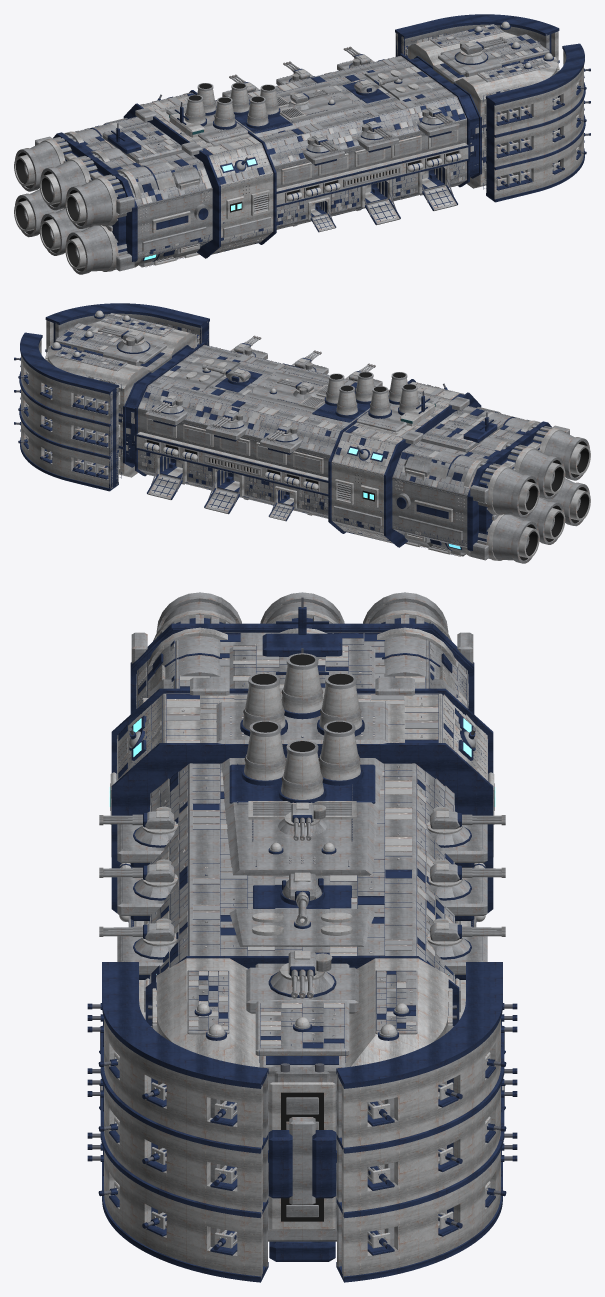
Rendered from 機戰風_聯盟.glb.
The picture shows the model from 3 angles, top to bottom: view 1: azimuth 30°, elevation 25°; view 2: azimuth 150°, elevation 25°; view 3: azimuth 270°, elevation 25°; orthographic projection. The views are drawn at different scales.
Visible parts, largest first — view 1: hull_mid_mid, hull_mid, hull_light, shields_plate_light, shields_plate_dark, hull_dark, superstructure_mid, engines.thruster.004, bow_mid, bow_block_light, engines.thruster.005, engines.thruster.002 (+29 smaller); view 2: hull_mid_mid, hull_mid, hull_light, shields_plate_light, shields_plate_dark, hull_dark, superstructure_mid, engines.thruster.002, bow_mid, bow_block_light, engines.thruster.003, engines.thruster.004 (+29 smaller); view 3: shields_plate_light, hull_mid_mid, shields_plate_dark, superstructure_mid, bow_mid, hull_dark, bow_block_light, hull_light, weapons_mid, engines.thruster.004, engines.thruster.002, bow_dark (+24 smaller).
Boxes of the visible parts, x1=… form: hull_mid_mid: x1=215, y1=56, x2=466, y2=229; hull_mid: x1=65, y1=117, x2=460, y2=267; hull_light: x1=140, y1=92, x2=468, y2=265; shields_plate_light: x1=395, y1=31, x2=583, y2=199; shields_plate_dark: x1=395, y1=14, x2=585, y2=202; hull_dark: x1=63, y1=53, x2=481, y2=259; superstructure_mid: x1=102, y1=67, x2=432, y2=163; engines.thruster.004: x1=65, y1=161, x2=200, y2=228; bow_mid: x1=430, y1=24, x2=550, y2=83; bow_block_light: x1=408, y1=32, x2=557, y2=188; engines.thruster.005: x1=65, y1=225, x2=200, y2=274; engines.thruster.002: x1=14, y1=118, x2=127, y2=191; hull_mid_mid: x1=138, y1=345, x2=389, y2=518; hull_mid: x1=144, y1=406, x2=539, y2=556; hull_light: x1=136, y1=381, x2=464, y2=554; shields_plate_light: x1=21, y1=319, x2=209, y2=488; shields_plate_dark: x1=19, y1=303, x2=209, y2=491; hull_dark: x1=123, y1=342, x2=541, y2=548; superstructure_mid: x1=172, y1=356, x2=502, y2=452; engines.thruster.002: x1=404, y1=450, x2=539, y2=517; bow_mid: x1=54, y1=313, x2=174, y2=372; bow_block_light: x1=47, y1=321, x2=196, y2=477; engines.thruster.003: x1=404, y1=514, x2=539, y2=563; engines.thruster.004: x1=477, y1=407, x2=590, y2=480; shields_plate_light: x1=104, y1=1018, x2=500, y2=1278; hull_mid_mid: x1=150, y1=763, x2=454, y2=983; shields_plate_dark: x1=100, y1=962, x2=504, y2=1282; superstructure_mid: x1=190, y1=645, x2=414, y2=946; bow_mid: x1=187, y1=963, x2=417, y2=1241; hull_dark: x1=111, y1=629, x2=493, y2=1025; bow_block_light: x1=157, y1=958, x2=447, y2=1233; hull_light: x1=110, y1=693, x2=494, y2=1019; weapons_mid: x1=117, y1=824, x2=487, y2=974; engines.thruster.004: x1=143, y1=592, x2=241, y2=702; engines.thruster.002: x1=363, y1=592, x2=461, y2=702; bow_dark: x1=266, y1=1056, x2=338, y2=1261.
Bounding box in the file's own units: 998 × 255 × 355.
7 materials, 4 textured.
